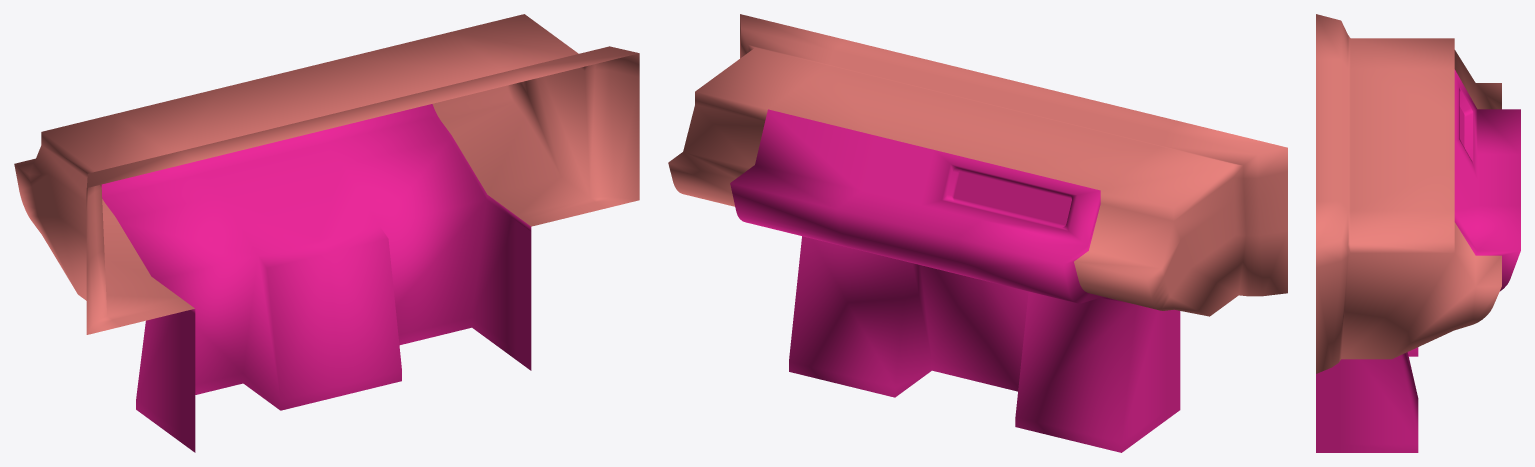
File: SM_Dashboard.fbx
The picture shows the model from 3 angles, left to right: view 1: azimuth 30°, elevation 25°; view 2: azimuth 150°, elevation 25°; view 3: azimuth 270°, elevation 25°; orthographic projection. The views are drawn at different scales.
Visible parts, largest first — view 1: SM_Dashboard.001, SM_Dashboard; view 2: SM_Dashboard.001, SM_Dashboard; view 3: SM_Dashboard, SM_Dashboard.001.
Boxes of the visible parts, bbox=[...] form: SM_Dashboard.001: bbox=[101, 104, 531, 452]; SM_Dashboard: bbox=[14, 14, 639, 334]; SM_Dashboard.001: bbox=[730, 109, 1180, 452]; SM_Dashboard: bbox=[668, 14, 1287, 316]; SM_Dashboard: bbox=[1316, 14, 1501, 373]; SM_Dashboard.001: bbox=[1316, 69, 1520, 452].
Size of the model in its own units: 2.3 by 1.16 by 0.8525.
